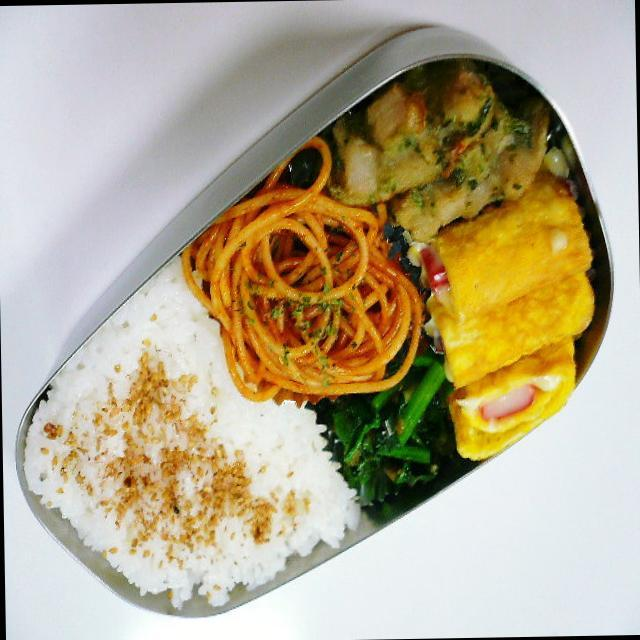Rice: (43, 369, 263, 602)
